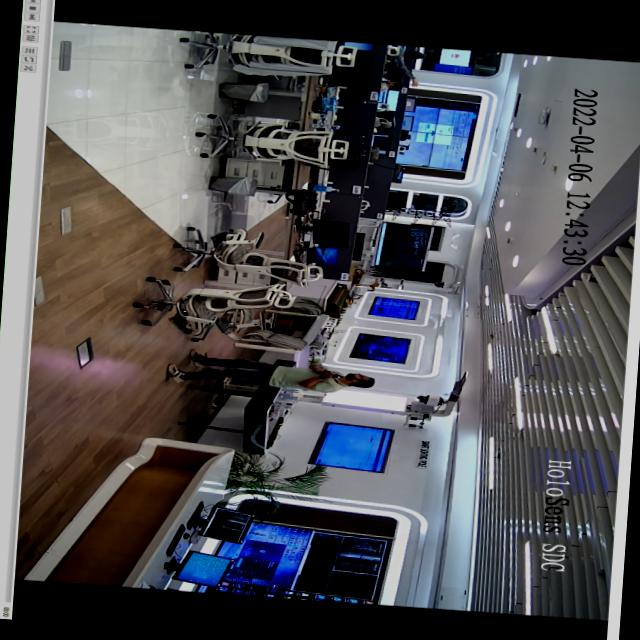long weapon: (307, 365, 349, 384)
